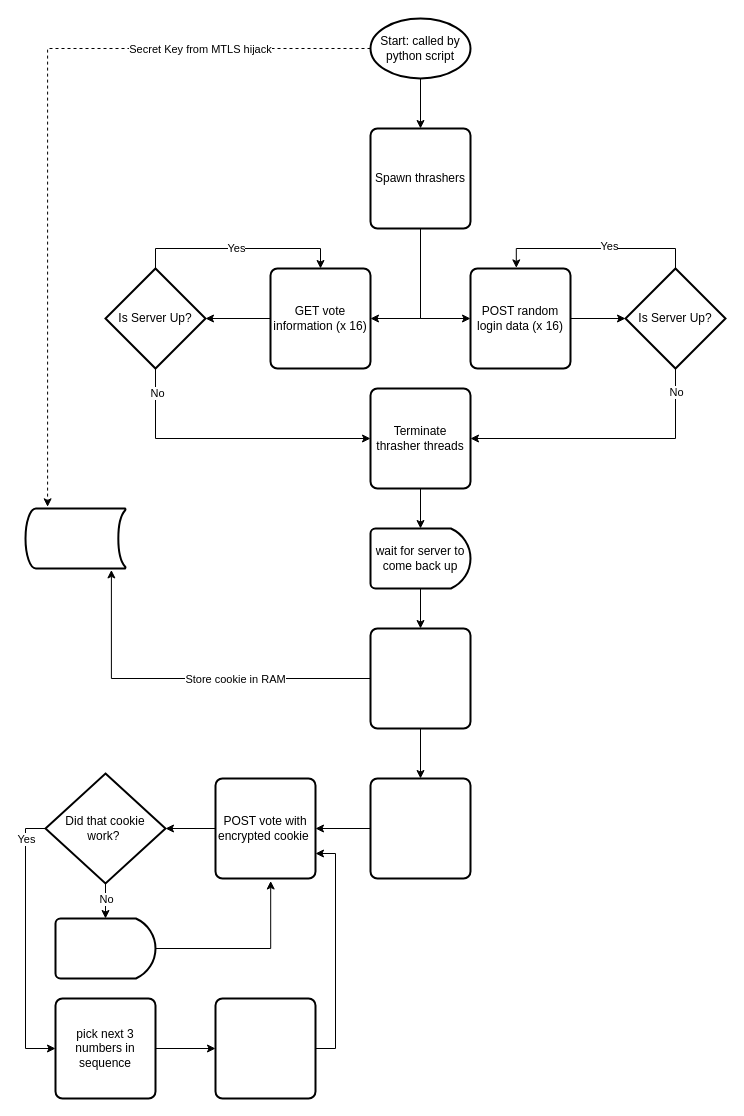
This 744x1116 diagram has some shape labels left out. Each missing label, with the box of its shape:
Decrypt cookie using compromised key, find sequency number: (369, 777, 471, 879)
Encrypt and sign new cookie with predicted sequence numbers: (214, 997, 316, 1099)
Known data: (24, 507, 126, 569)
POST valid login data to webserver /login: (369, 627, 471, 729)
wait (cookie isn't valid yet): (54, 917, 156, 979)
